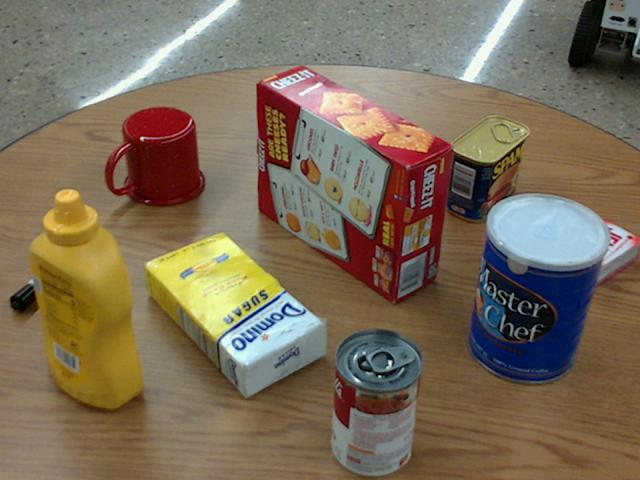cracker_box: (256, 66, 451, 302)
gelatin_box: (534, 208, 639, 289)
large_marker: (10, 230, 96, 308)
master_chef_can: (468, 193, 608, 383)
mug: (106, 107, 204, 205)
mustard_bottle: (27, 188, 140, 406)
potted_meat_can: (447, 115, 529, 221)
sugar_box: (143, 230, 324, 397)
tomato_soup_can: (330, 329, 421, 477)
tuna_fish_can: (270, 79, 342, 151)
